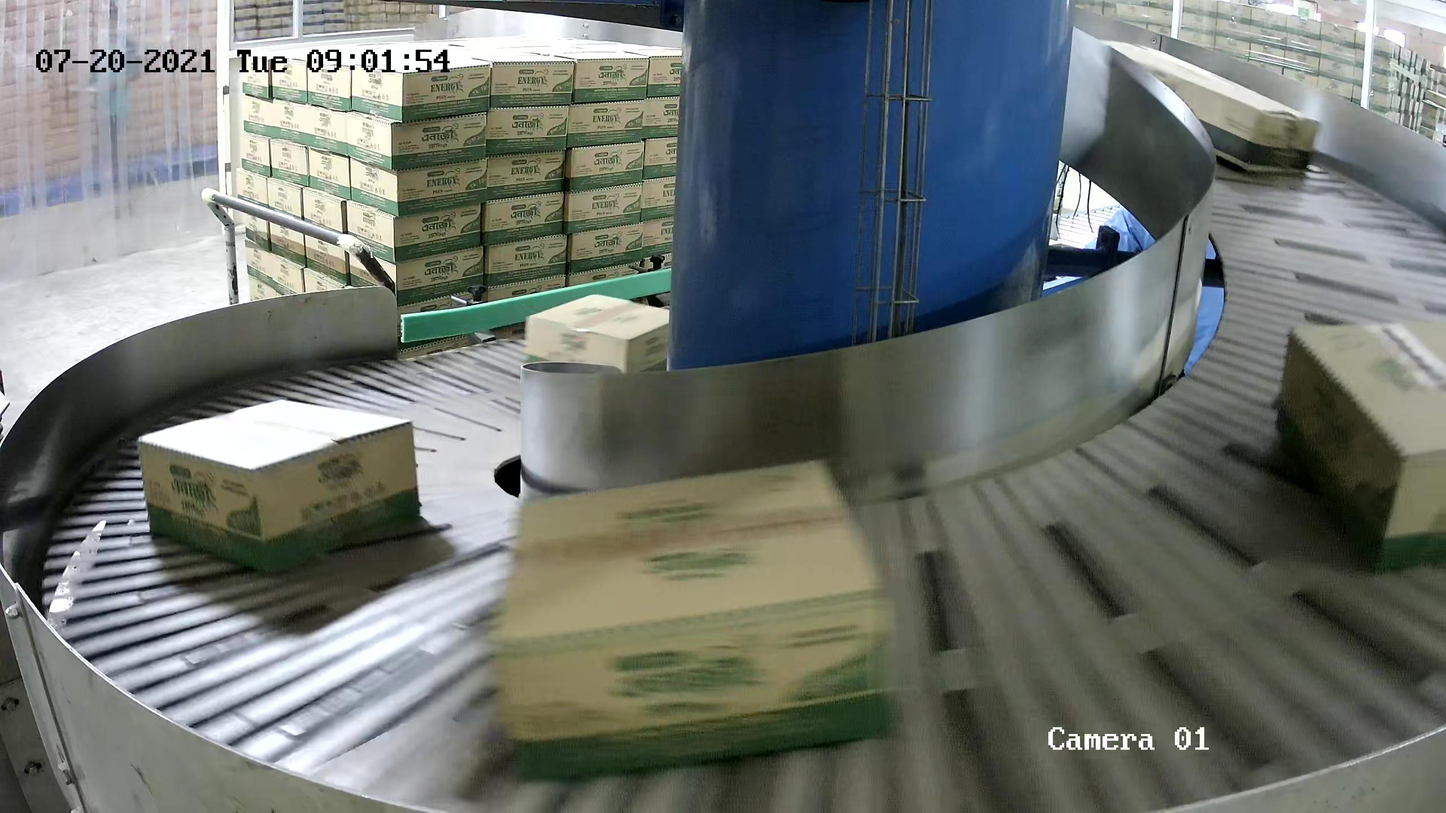Box: (492, 456, 892, 779), (137, 398, 422, 572), (1274, 319, 1446, 573), (1096, 38, 1322, 174), (524, 294, 670, 371)
